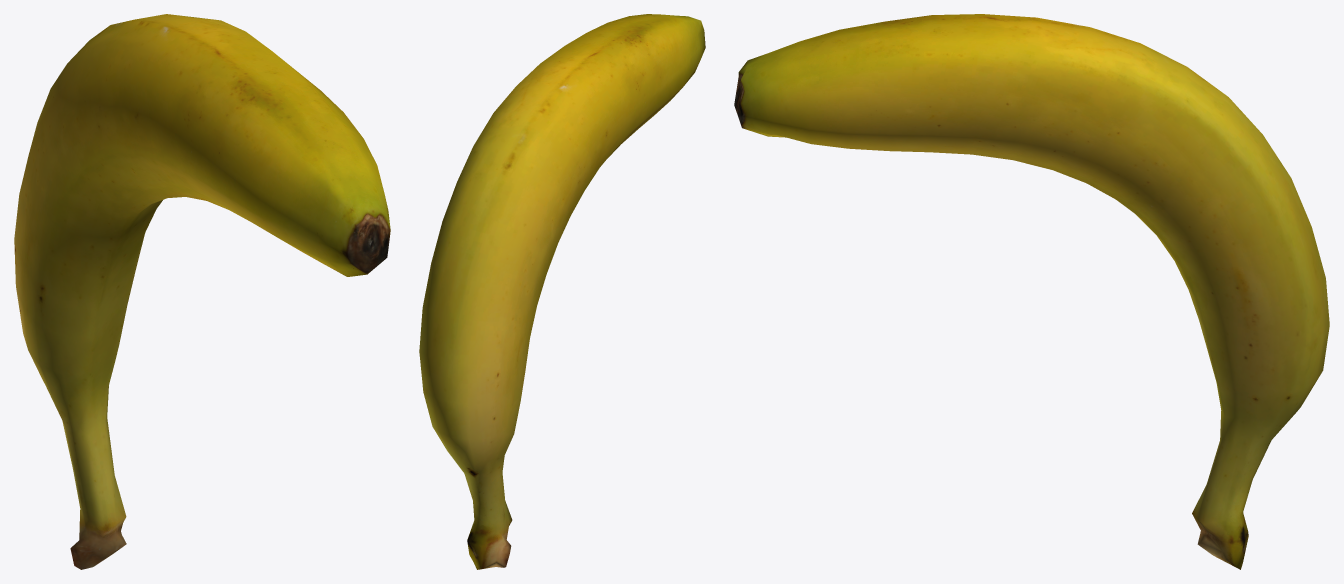
File: raw.glb
3 views of the same model, side by side, from view 1: azimuth 30°, elevation 25°; view 2: azimuth 150°, elevation 25°; view 3: azimuth 270°, elevation 25° (orthographic). The views are drawn at different scales.
Visible parts, largest first — view 1: wooden_path_LOD0; view 2: wooden_path_LOD0; view 3: wooden_path_LOD0.
Part boxes in pixels (bbox=[...]): wooden_path_LOD0: bbox=[14, 14, 390, 569]; wooden_path_LOD0: bbox=[419, 14, 705, 569]; wooden_path_LOD0: bbox=[734, 14, 1329, 569].
Bounding box in the file's own units: 0.033 × 0.1539 × 0.1529.
1 material, 1 textured.
